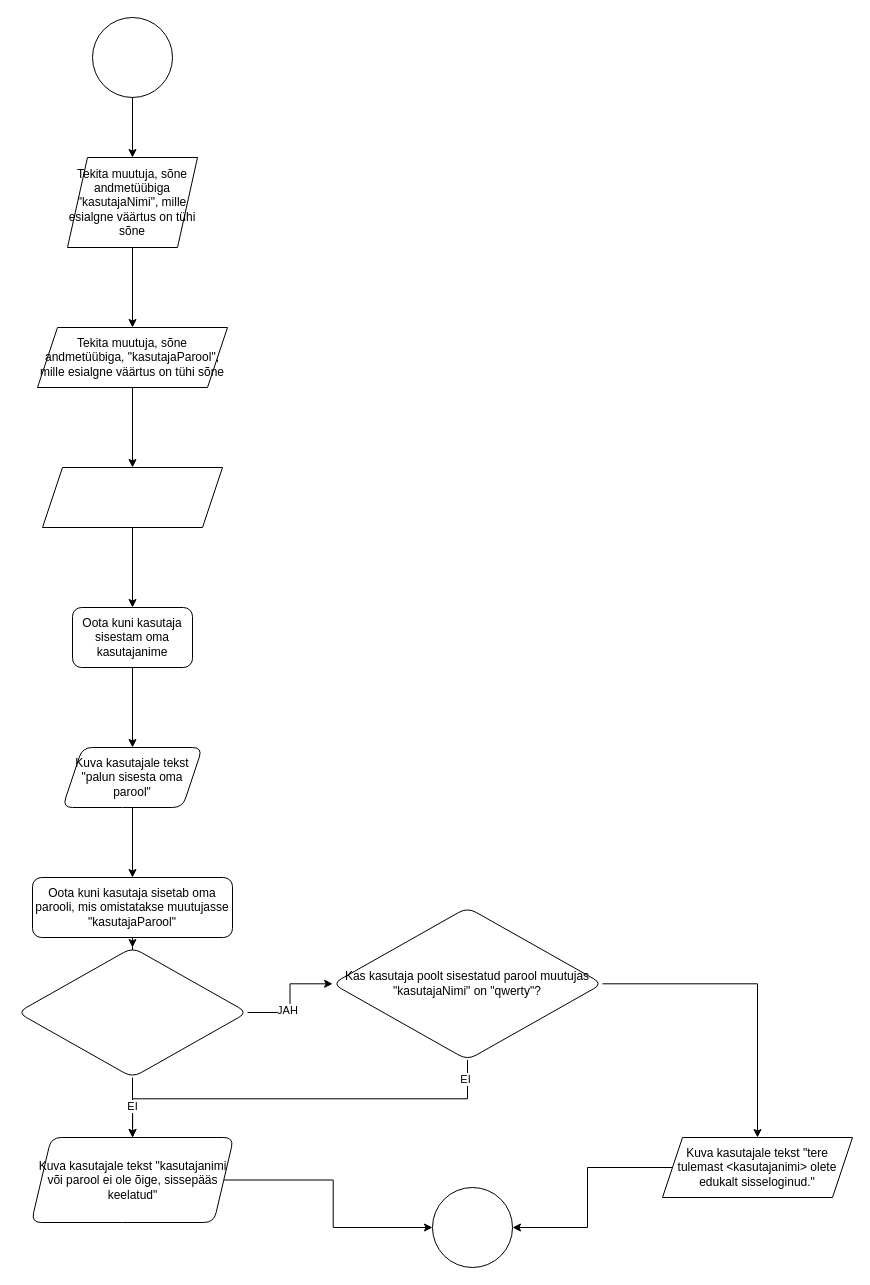
This 870x1285 diagram has some shape labels left out. The shapes that lost their labels are listed below. From the top down, each one's centre as x and y in pixels, then its label:
point (132, 57): Algus
point (132, 497): Kuva kasutaja tekst "palun sisesta oma kasutajanimi"
point (132, 1012): Kas kasutaja poolt sisestatud kasutaja nimi muutujas "kasutajaNimi" on "user1"?
point (472, 1227): Lõpp
